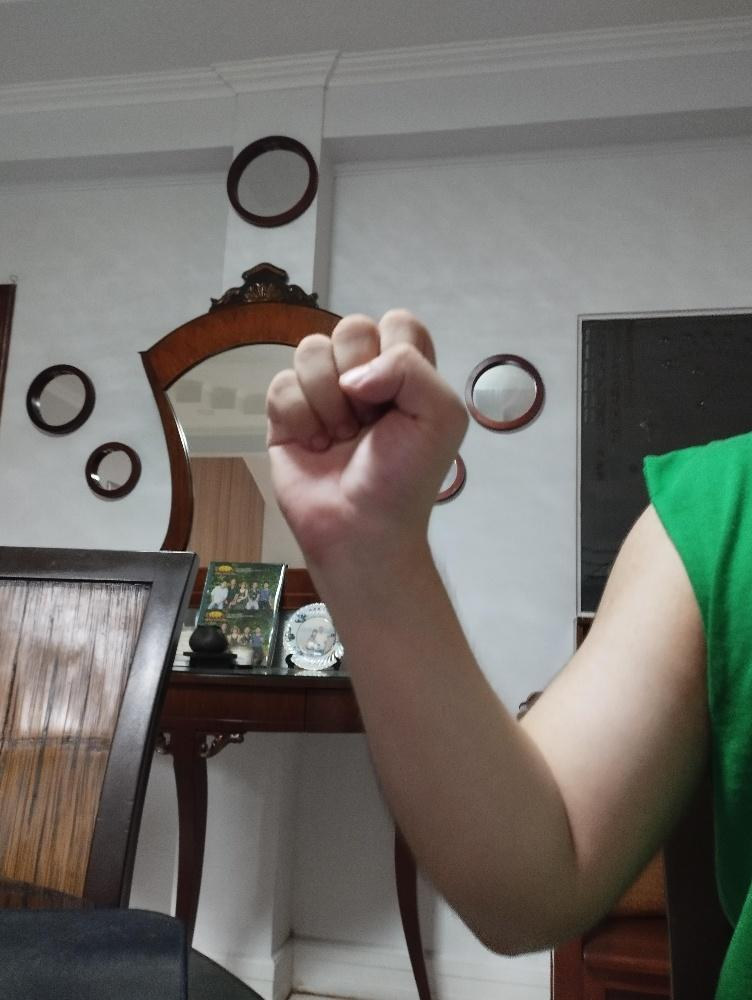s: (260, 304, 472, 560)
